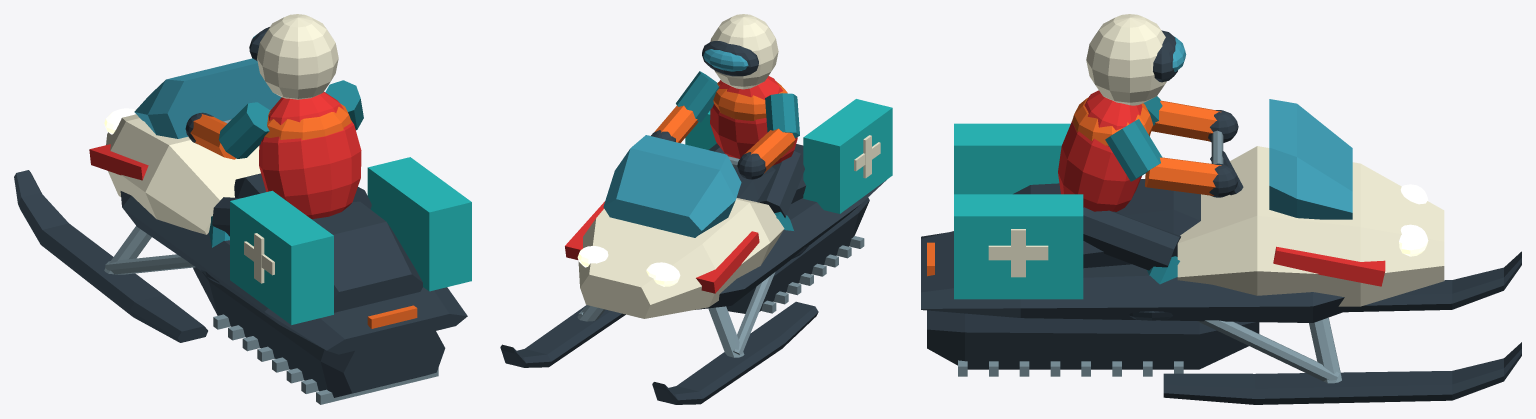
Rendered from forest-patrol.glb.
3 views of the same model, side by side, from view 1: azimuth 30°, elevation 25°; view 2: azimuth 150°, elevation 25°; view 3: azimuth 270°, elevation 25° (orthographic). The views are drawn at different scales.
Visible parts, largest first — view 1: Forest patrol; view 2: Forest patrol; view 3: Forest patrol.
Part boxes in pixels (left/top/right/bottom): Forest patrol: left=14, top=14, right=471, bottom=404; Forest patrol: left=500, top=14, right=892, bottom=404; Forest patrol: left=921, top=14, right=1521, bottom=404.
Bounding box in the file's own units: 1.32 × 1.85 × 3.02.
